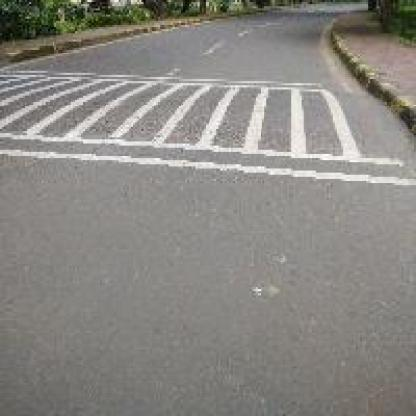Speed Bump: (0, 58, 414, 193)
